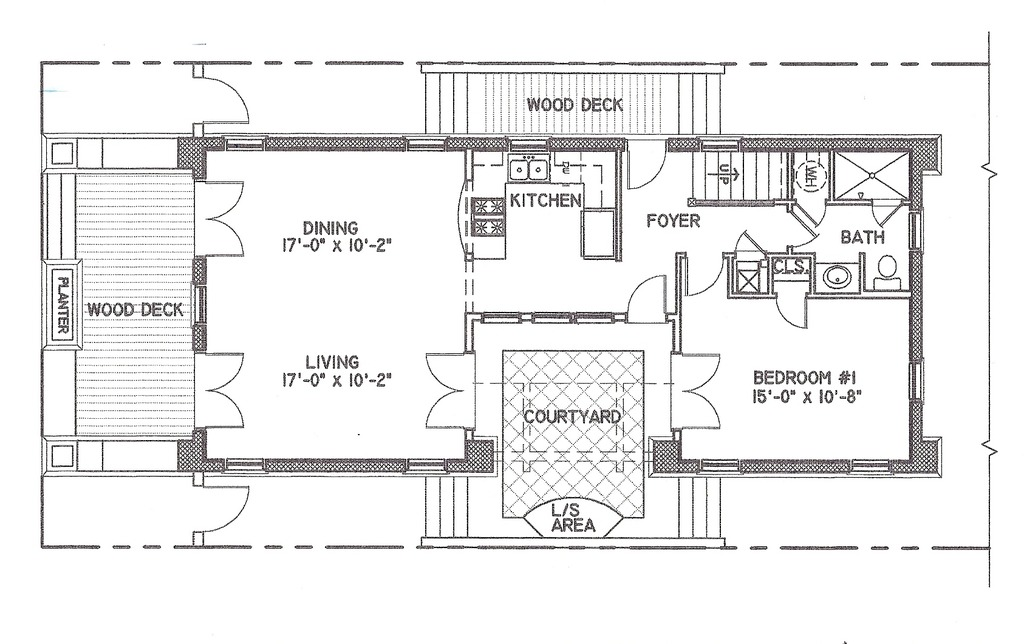door: (668, 349, 724, 432), (195, 352, 248, 430), (421, 348, 470, 432), (195, 178, 247, 257), (195, 70, 250, 126), (197, 481, 252, 534), (623, 140, 669, 191), (625, 273, 669, 325), (683, 251, 723, 300), (774, 290, 811, 335), (869, 200, 901, 230), (797, 196, 827, 226)
large_sink: (869, 253, 907, 292)
small_sink: (814, 262, 860, 294)
stairs: (418, 61, 728, 137), (688, 148, 794, 202), (422, 473, 473, 543), (672, 474, 724, 538)
twin_sink: (507, 154, 551, 185)
windows: (221, 454, 266, 475), (847, 458, 894, 475), (905, 209, 923, 252), (220, 137, 267, 153), (906, 362, 925, 400), (405, 136, 451, 151)
